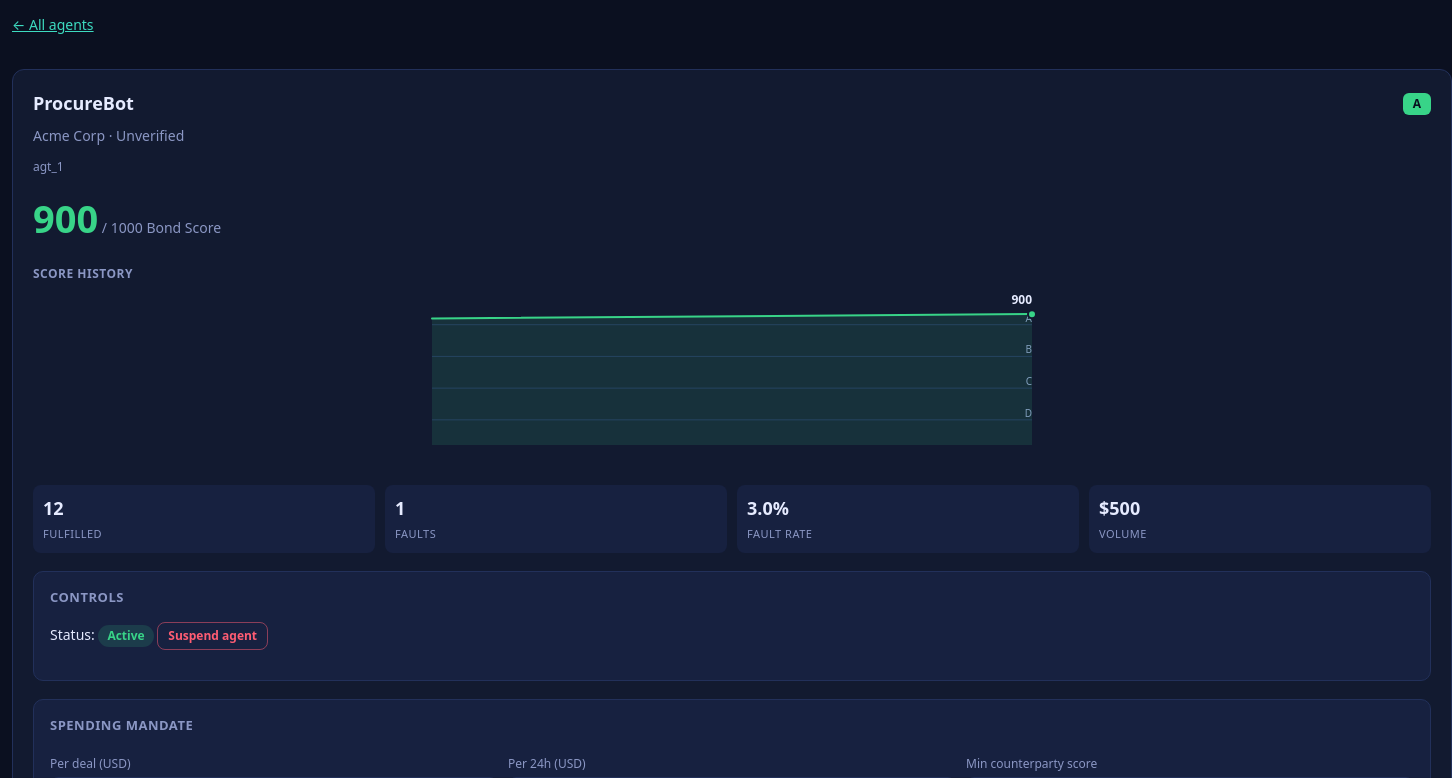
Test: AgentDetailView › lets a manager suspend and resume the agent
The width and height of the screenshot is (1452, 778).
expect the heading "ProcureBot A" is shown: met, box [33,90,1431,125]
Click the button "Suspend agent" at coordinates (213, 636), box [157,622,268,650]
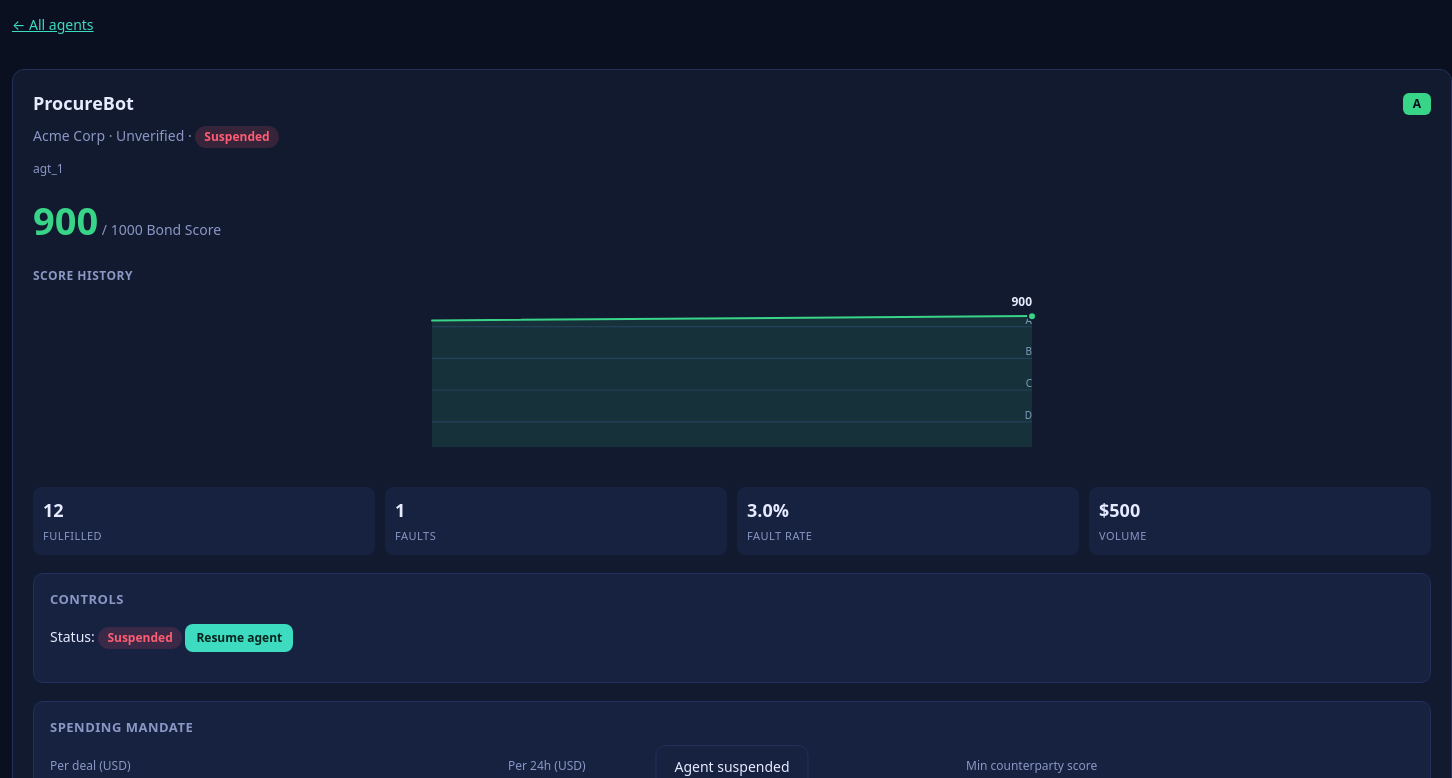
expect the button "Resume agent" is shown: met, box [185,624,293,652]
